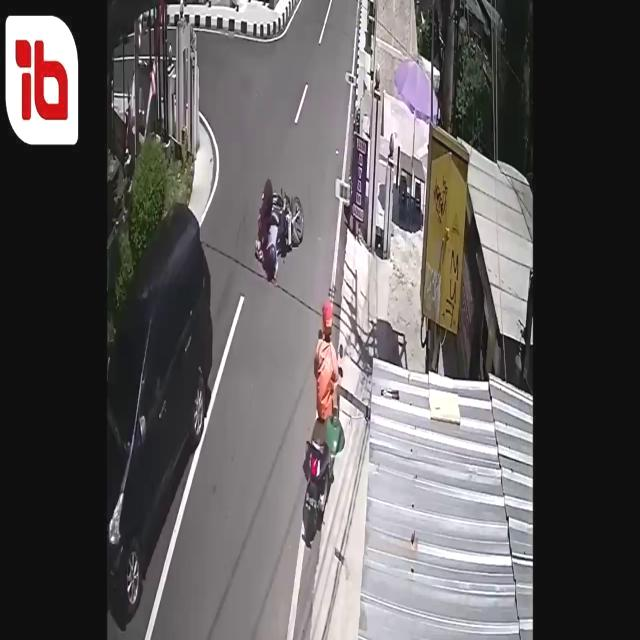accident: (250, 181, 308, 281)
